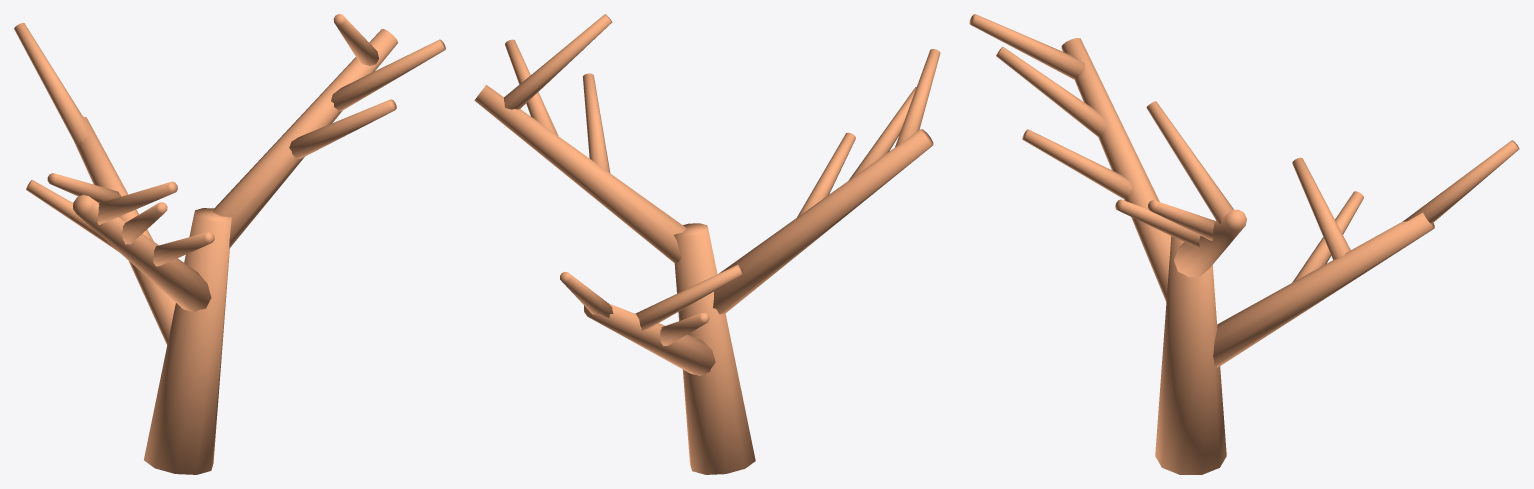
The model's file is ob_coral.glb.
The picture shows the model from 3 angles, left to right: view 1: azimuth 30°, elevation 25°; view 2: azimuth 150°, elevation 25°; view 3: azimuth 270°, elevation 25°; orthographic projection. The views are drawn at different scales.
Visible parts, largest first — view 1: staghorn-coral_0; view 2: staghorn-coral_0; view 3: staghorn-coral_0.
Boxes of the visible parts, x1,y1,x2,y2 form: staghorn-coral_0: (14, 14, 445, 474); staghorn-coral_0: (474, 14, 940, 474); staghorn-coral_0: (969, 14, 1519, 474).
Size of the model in its own units: 1.91 by 1.91 by 2.22.
